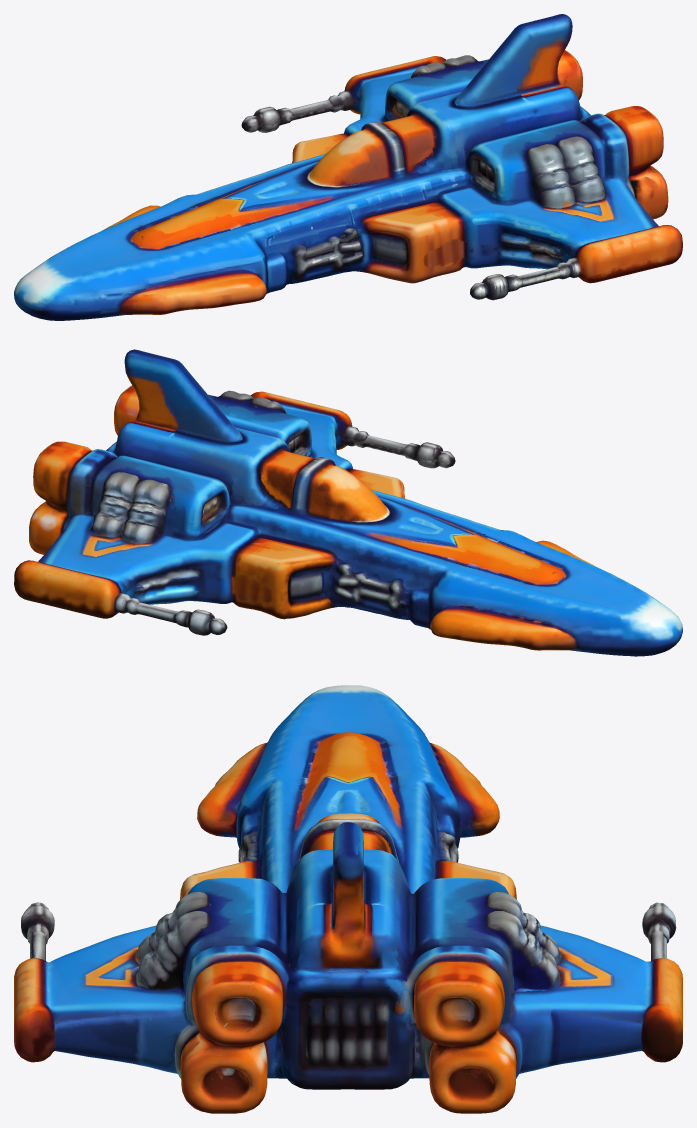
File: Phallanx_Cruiser.glb
The picture shows the model from 3 angles, top to bottom: view 1: azimuth 30°, elevation 25°; view 2: azimuth 150°, elevation 25°; view 3: azimuth 270°, elevation 25°; orthographic projection. The views are drawn at different scales.
Parts seen in each view (by area): view 1: Mesh_0; view 2: Mesh_0; view 3: Mesh_0.
Boxes of the visible parts, x1,y1,x2,y2 form: Mesh_0: (14,14,682,320); Mesh_0: (14,349,682,656); Mesh_0: (14,685,682,1113).
Bounding box in the file's own units: 1.91 × 0.5643 × 1.37.
1 material, 1 textured.
